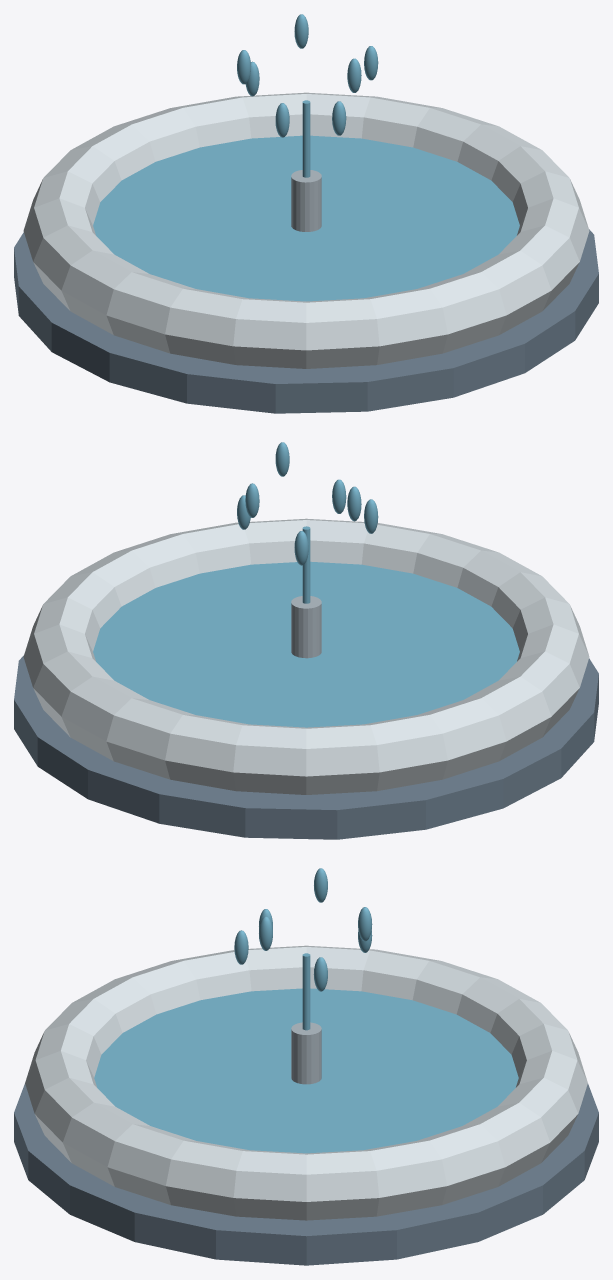
The model's file is public_08.glb.
3 renders of one model, top to bottom at view 1: azimuth 30°, elevation 25°; view 2: azimuth 150°, elevation 25°; view 3: azimuth 270°, elevation 25°, orthographic.
Parts seen in each view (by area): view 1: BowlRim, PoolWater, FountainBase, CenterNozzle, CentralJet; view 2: BowlRim, PoolWater, FountainBase, CenterNozzle, CentralJet; view 3: BowlRim, PoolWater, FountainBase, CenterNozzle, CentralJet.
Boxes of the visible parts, x1,y1,x2,y2 form: BowlRim: (23, 92, 589, 368); PoolWater: (93, 135, 519, 301); FountainBase: (14, 229, 598, 413); CenterNozzle: (291, 170, 321, 231); CentralJet: (302, 100, 310, 177); BowlRim: (23, 518, 589, 794); PoolWater: (93, 561, 519, 727); FountainBase: (14, 655, 598, 839); CenterNozzle: (291, 596, 321, 658); CentralJet: (302, 526, 310, 603); BowlRim: (25, 945, 587, 1220); PoolWater: (94, 988, 518, 1153); FountainBase: (14, 1084, 598, 1265); CenterNozzle: (291, 1022, 321, 1084); CentralJet: (302, 953, 310, 1030).
Bounding box in the file's own units: 1.8 × 0.838 × 1.8.
